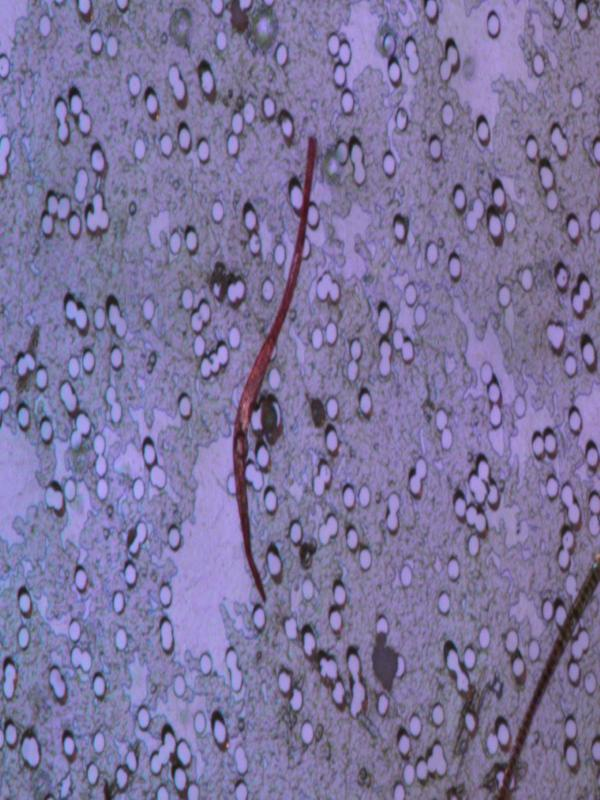microplastic: (1, 1, 598, 797), (231, 133, 318, 603)
